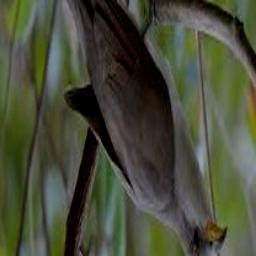Cuckoo: (46, 0, 226, 256)
